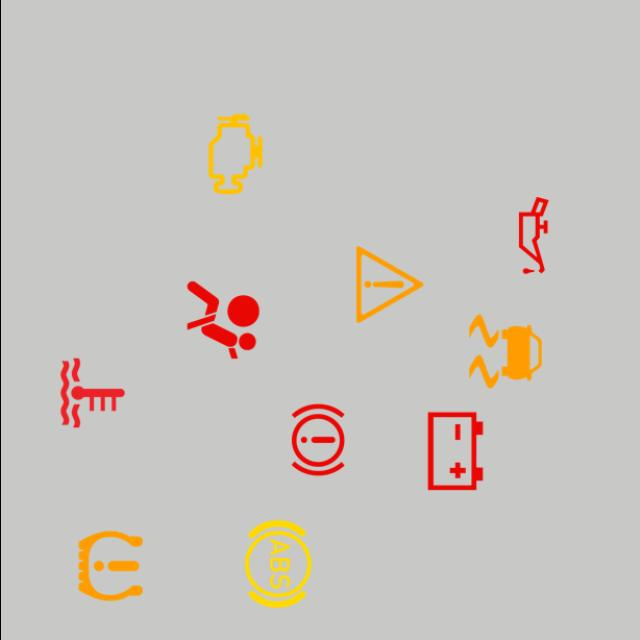Anti Lock Braking System: (230, 516, 326, 612)
Braking System Issue: (269, 392, 365, 488)
Charging System Issue: (407, 404, 502, 499)
Check Engine: (186, 106, 282, 202)
Electronic Stability Problem -ESP-: (457, 304, 552, 399)
Engine Overheating Warning Light: (44, 345, 140, 441)
Low Engine Oil Warning Light: (484, 188, 580, 284)
Low Tire Pressure Warning Light: (61, 518, 158, 614)
Master warning light: (341, 236, 437, 332)
SRS-Airbag: (174, 272, 270, 368)
